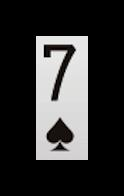7S: (38, 41, 81, 155)
